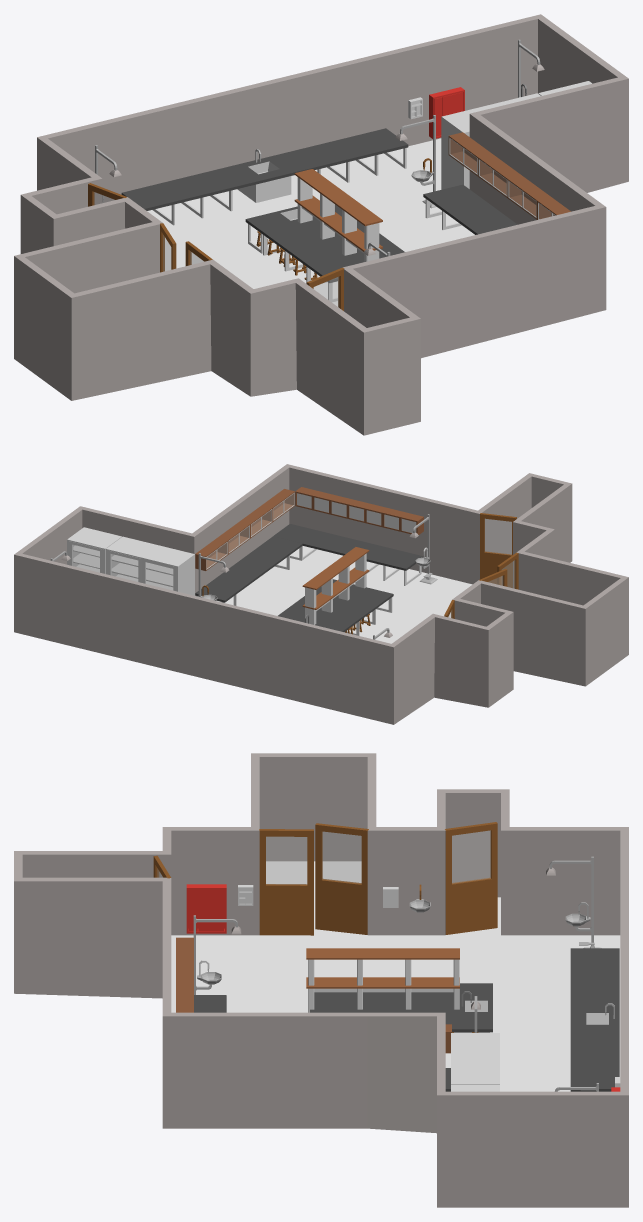
The model's file is Main Laboratoty Room.fbx.
The picture shows the model from 3 angles, top to bottom: view 1: azimuth 30°, elevation 25°; view 2: azimuth 150°, elevation 25°; view 3: azimuth 270°, elevation 25°; orthographic projection. The views are drawn at different scales.
Parts seen in each view (by area): view 1: Circle.001; view 2: Circle.001; view 3: Circle.001.
Part boxes in pixels (x1=…): Circle.001: x1=14, y1=14, x2=628, y2=435; Circle.001: x1=14, y1=464, x2=628, y2=724; Circle.001: x1=14, y1=753, x2=628, y2=1207.
Bounding box in the file's own units: 3453 × 558 × 2623.
